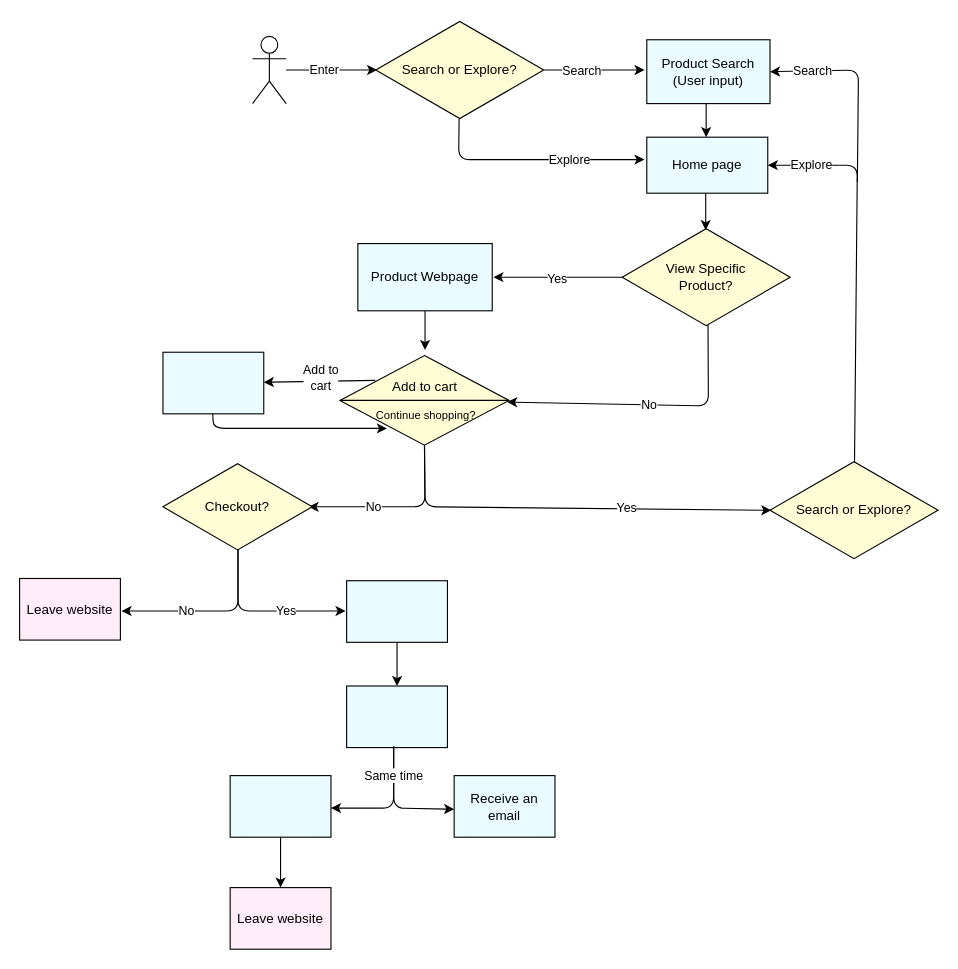
The diagram is 958 pixels wide and 969 high, and some of its shapes have lost their labels. The shapes that lost their labels are listed below. From the top down, each one's centre as x and y in pixels, then its label:
At pixel 268 69: "User".
At pixel 213 382: "Added to cart Confirmation".
At pixel 396 611: "View cart".
At pixel 396 716: "View payment (User input details)".
At pixel 280 805: "Order Confirmation".
